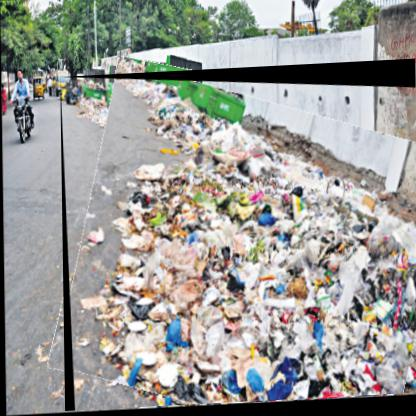Garbage: (60, 64, 416, 414)
